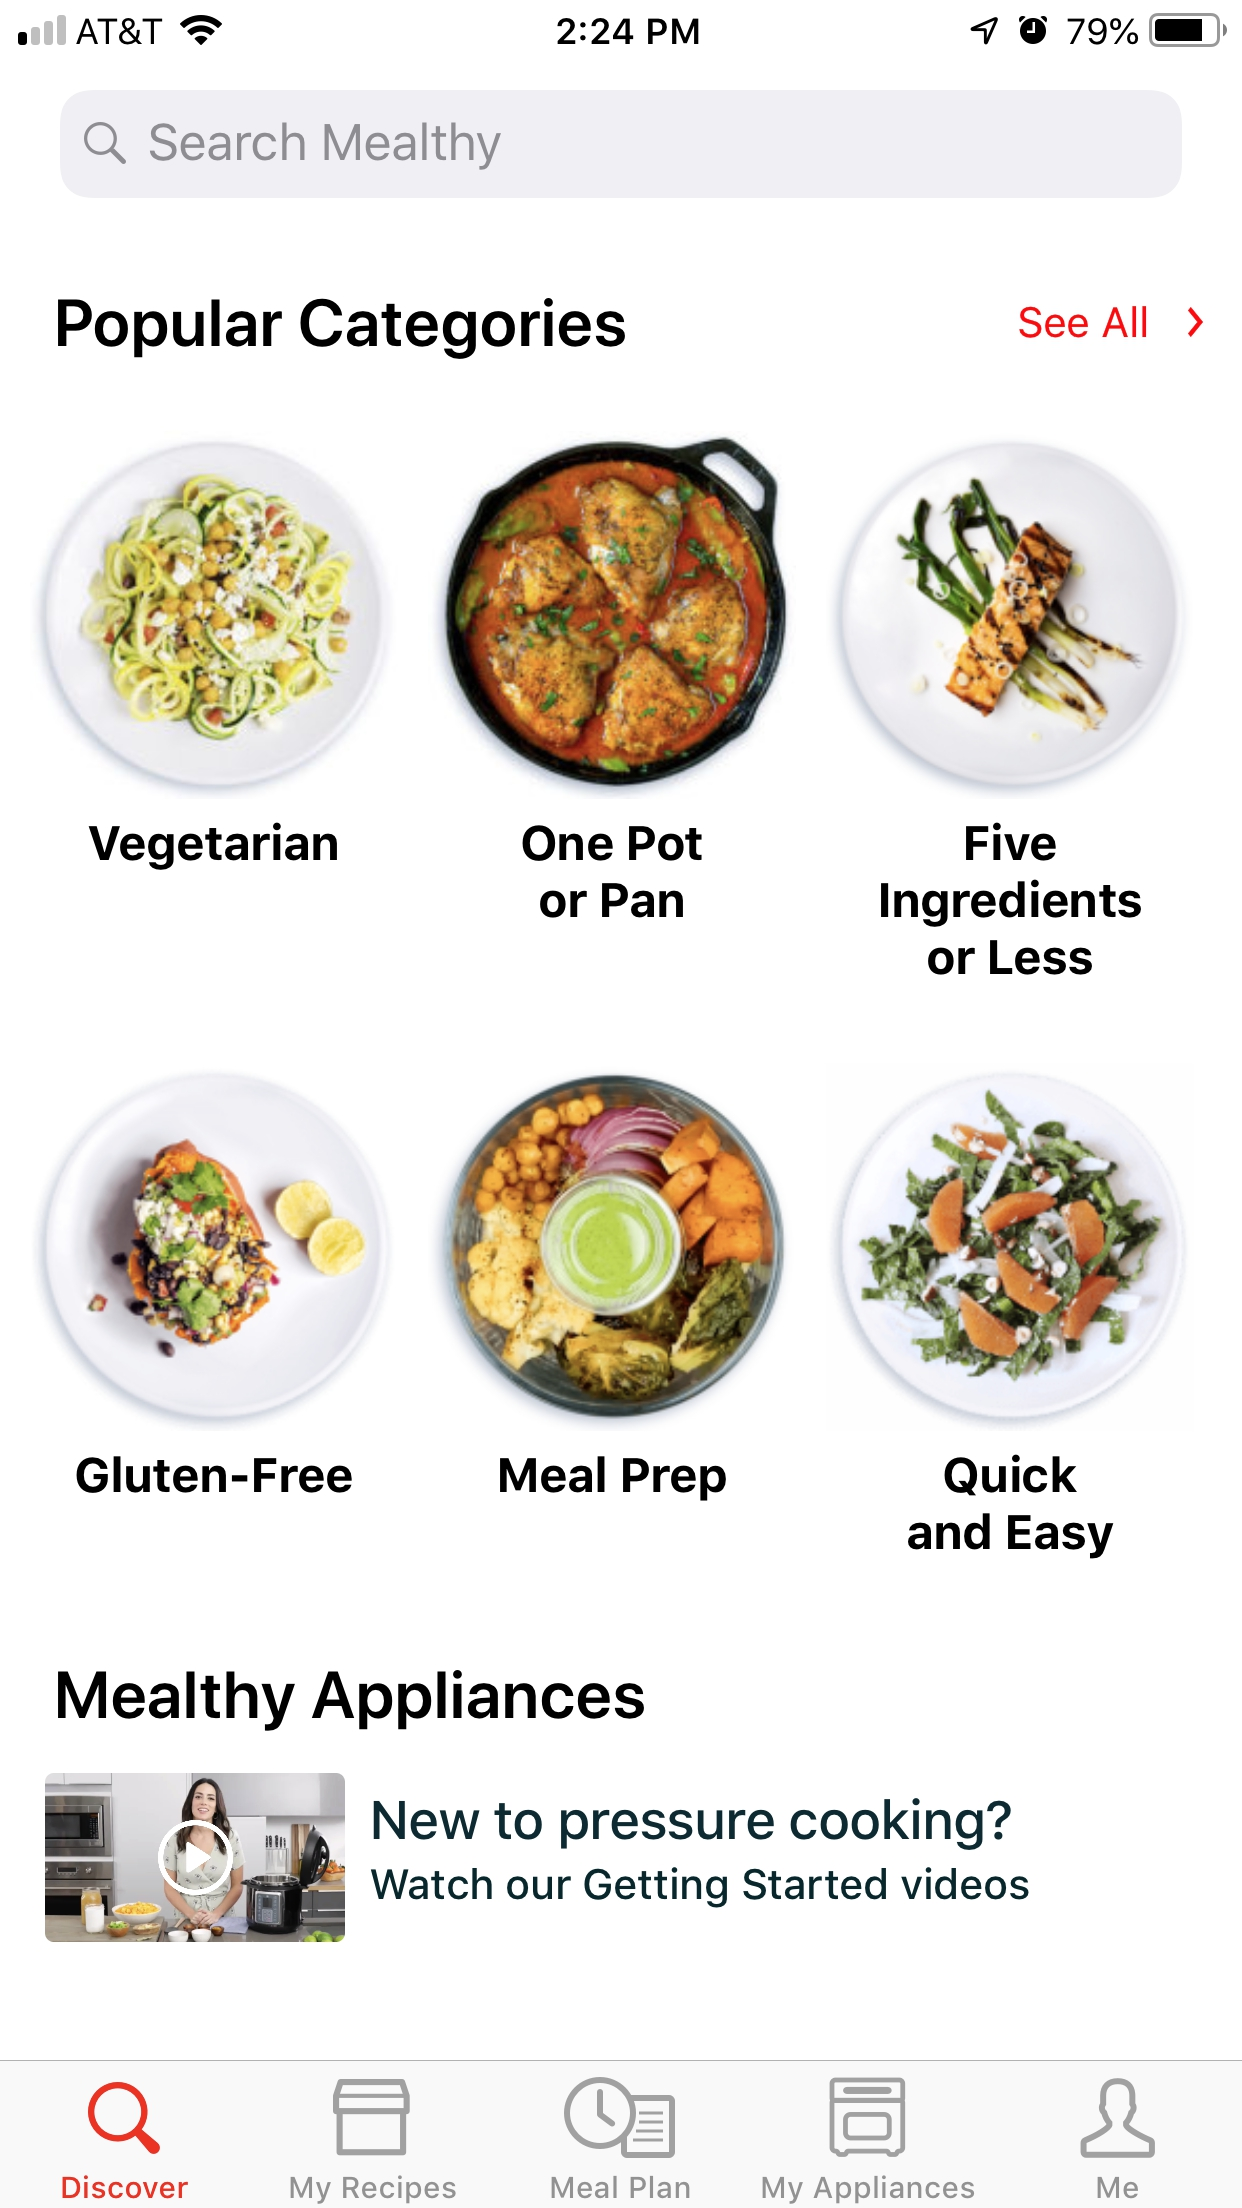EditText: (61, 91, 1184, 200)
Icon: (563, 2078, 676, 2159), (1080, 2078, 1156, 2159), (830, 2078, 905, 2158), (158, 1820, 235, 1896), (88, 2081, 162, 2155), (83, 121, 127, 165), (1187, 306, 1204, 338)
Image: (39, 441, 391, 798), (41, 1071, 393, 1422), (443, 435, 789, 790), (839, 440, 1187, 790), (441, 1074, 786, 1419), (842, 1072, 1183, 1419), (45, 1773, 346, 1943), (334, 2078, 412, 2156)
Text: (372, 1797, 1030, 1909), (880, 820, 1142, 977), (59, 1670, 646, 1732), (58, 299, 626, 361), (907, 1453, 1115, 1559), (522, 823, 704, 919), (152, 123, 502, 171), (89, 822, 340, 870), (76, 1456, 353, 1495), (499, 1454, 726, 1501), (761, 2175, 975, 2205), (291, 2175, 458, 2203), (1019, 306, 1146, 340), (550, 2175, 692, 2199), (64, 2175, 190, 2199), (1096, 2176, 1139, 2199)
UpperTaskBar: (2, 2, 1242, 49)
